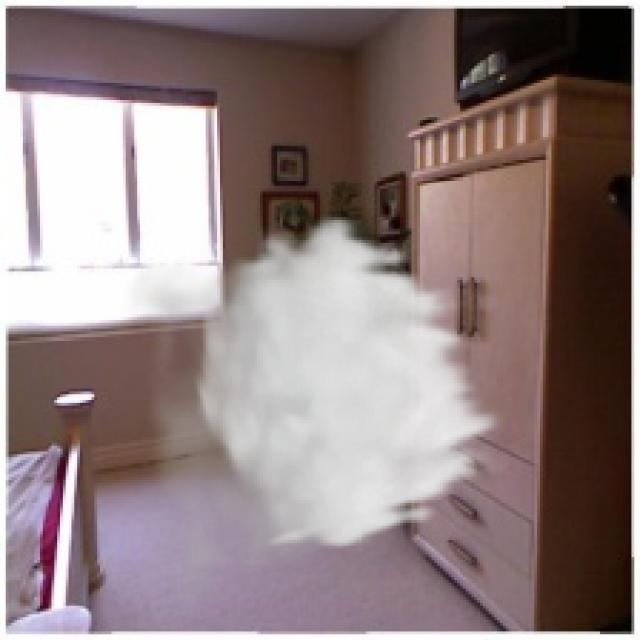Smoke: (120, 211, 509, 623)
